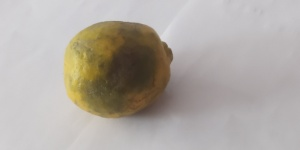BAD: (62, 16, 173, 121)
